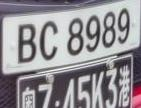8: (65, 13, 86, 59), (102, 6, 118, 53)
9: (84, 10, 103, 54), (117, 6, 131, 48)
B: (14, 20, 39, 67)
C: (38, 16, 62, 66)
